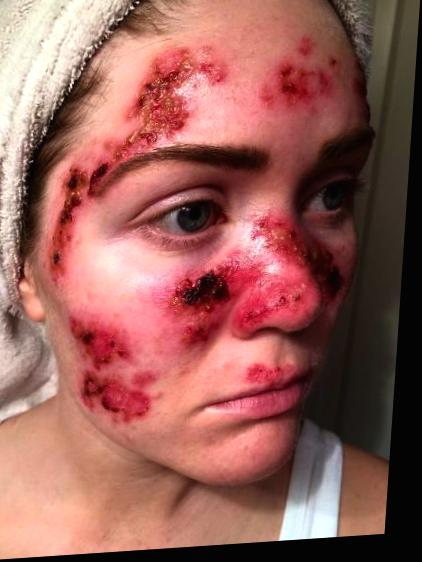Fire: (29, 48, 222, 269), (147, 215, 360, 349), (249, 14, 369, 153), (62, 309, 175, 436), (252, 368, 308, 391)
